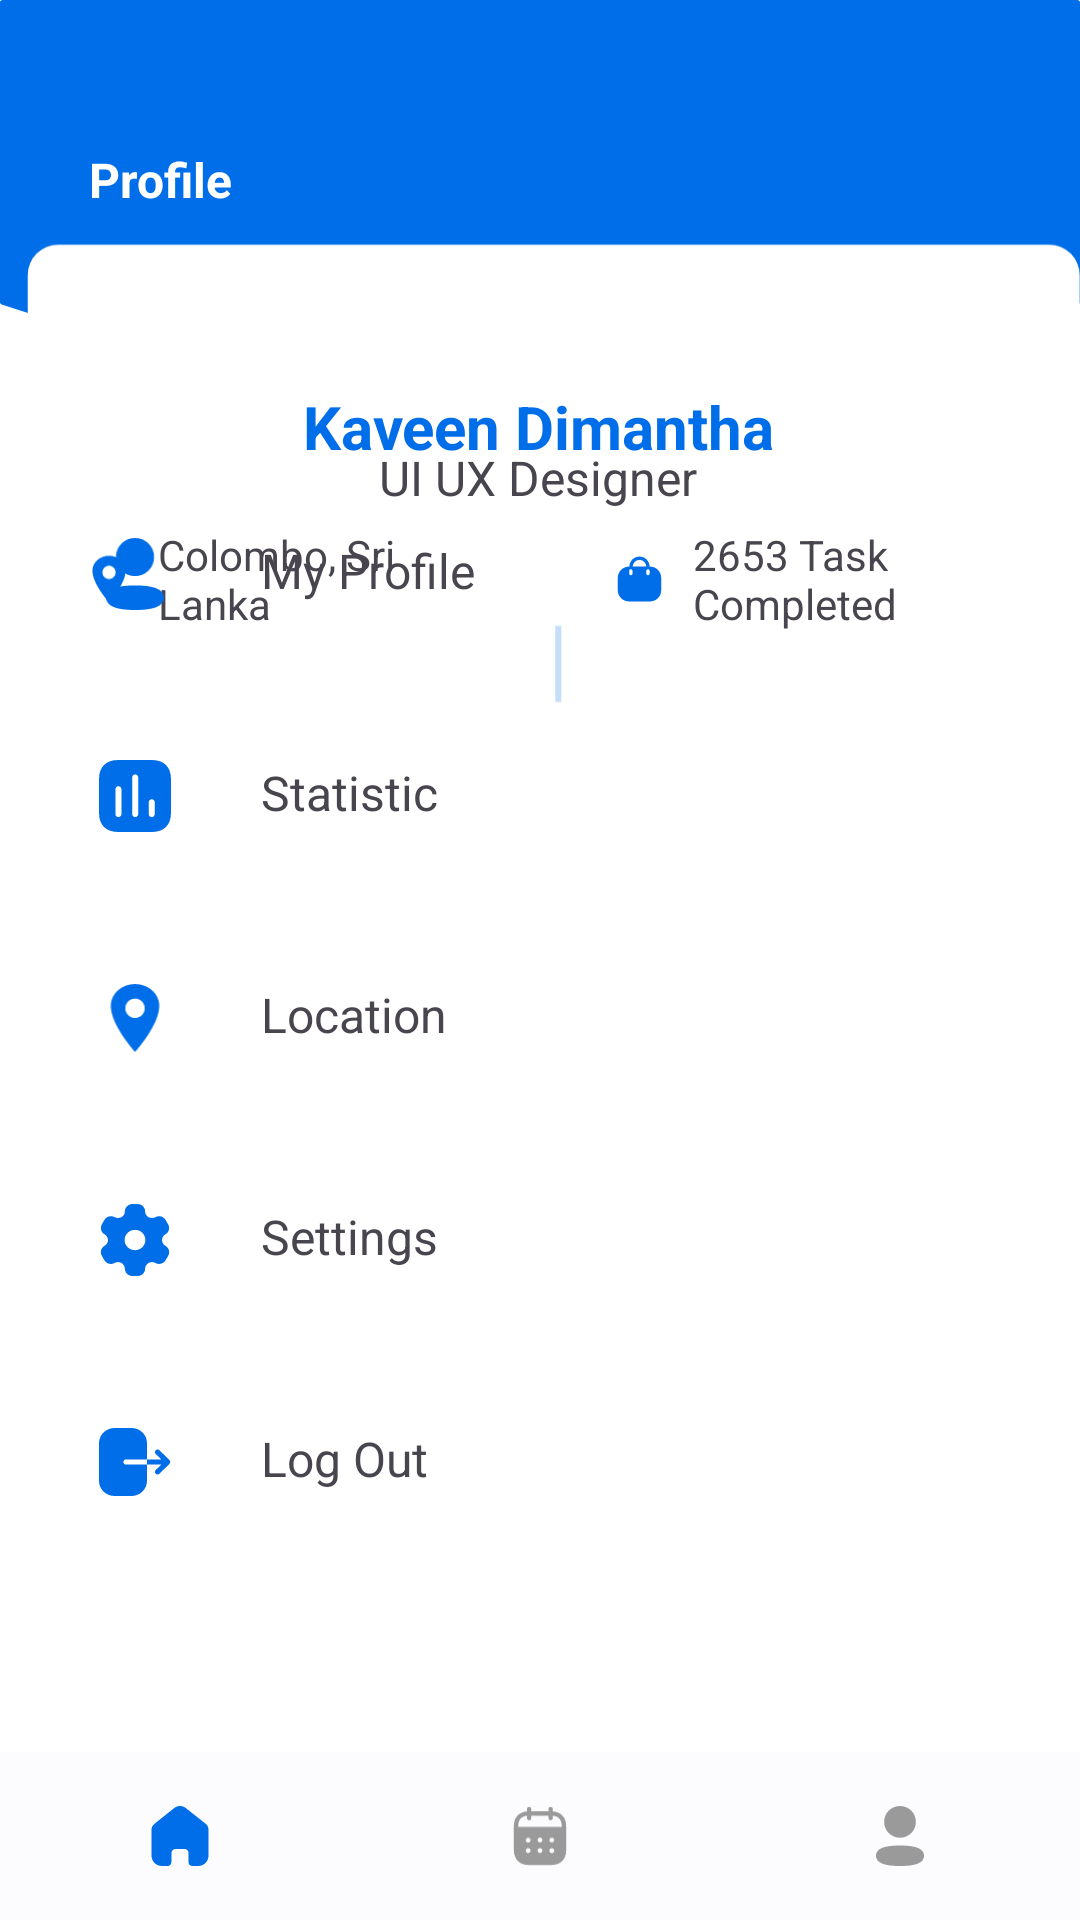

Point at icon controls on the screen. Image size 1080px×1920px, points as (x=x, y=y).
chart: (x=135, y=796)
